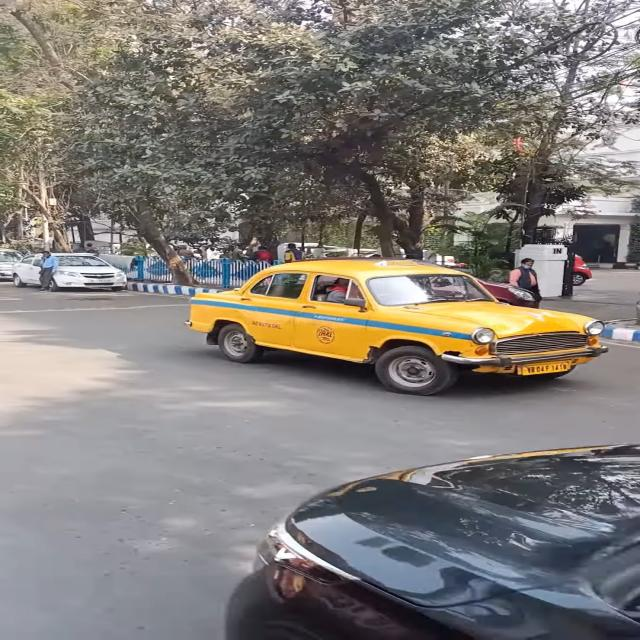Taxi: (160, 250, 618, 401)
